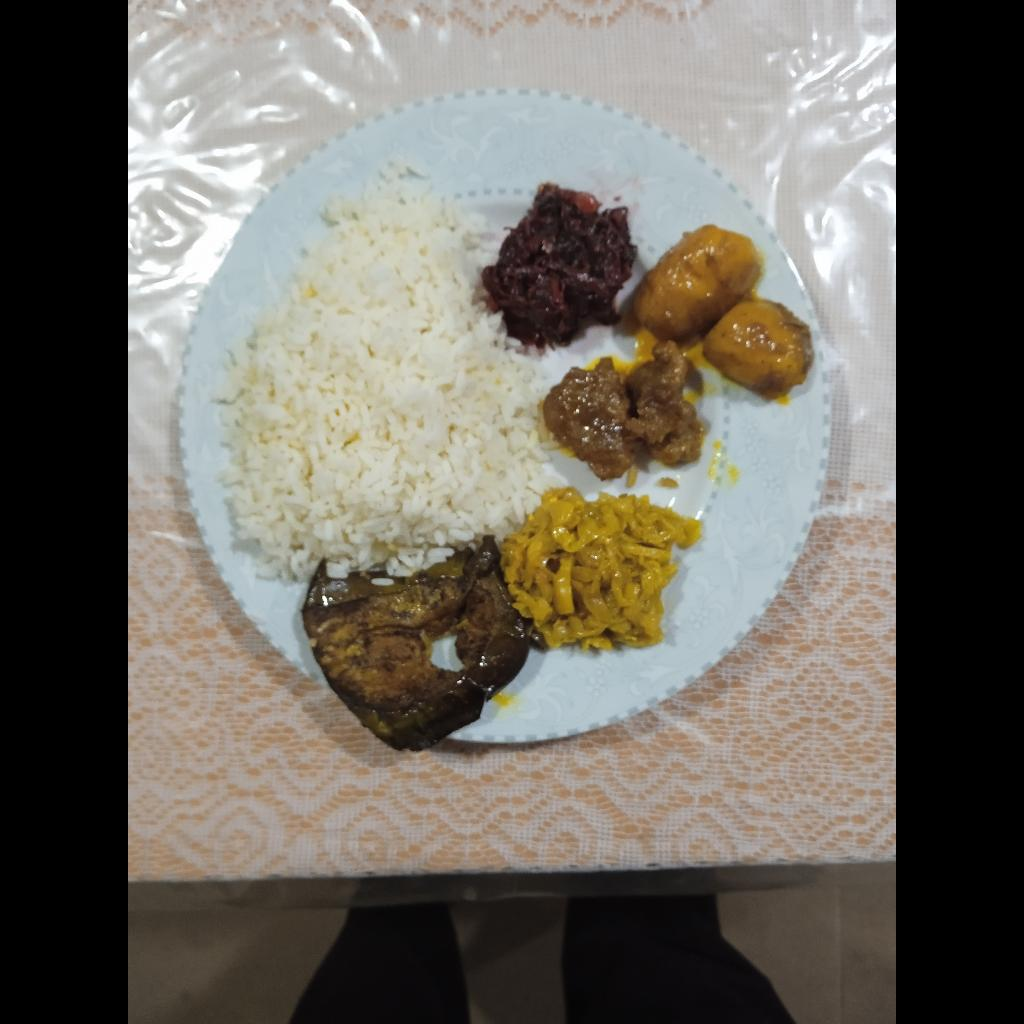beef: (541, 358, 710, 474)
begun-vaji: (302, 540, 535, 746)
cauliflower: (505, 498, 696, 652)
potato: (631, 220, 817, 395)
rice: (220, 176, 558, 566)
shak: (492, 178, 628, 343)
